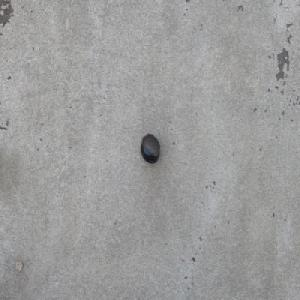FuelCap: (140, 133, 160, 164)
